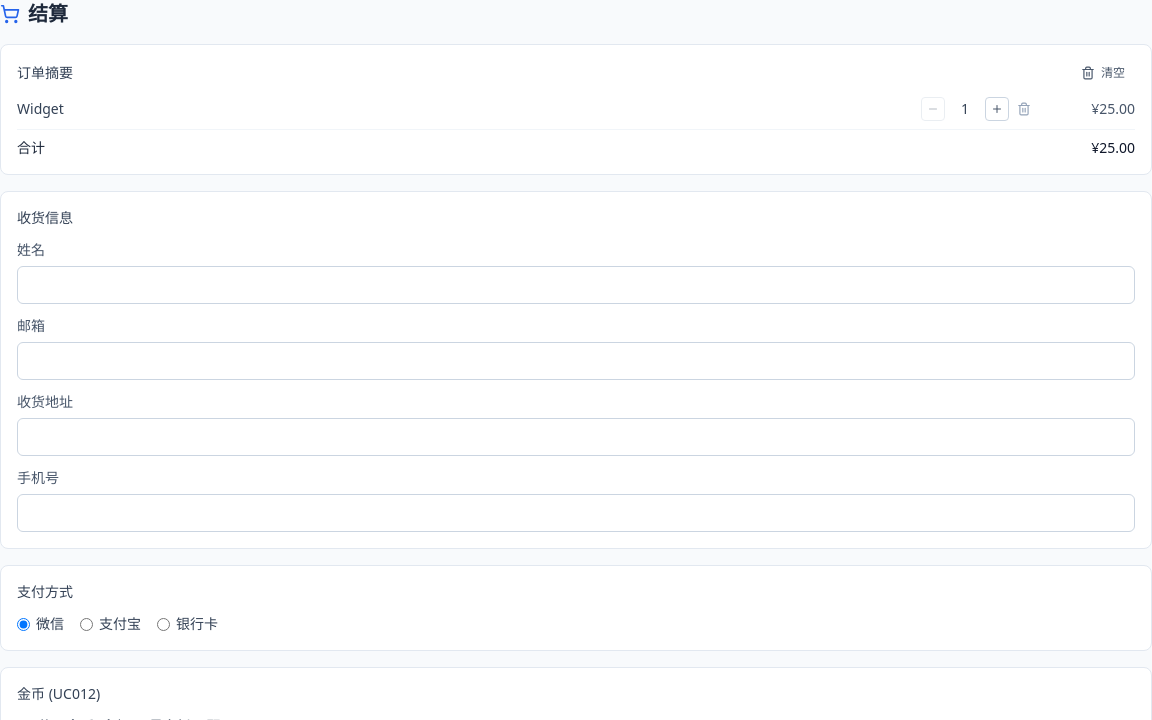
Scenario: Checkout three-stage flow › renders the Pay button with the success variant (bg-green-600)
The width and height of the screenshot is (1152, 720).
# Fill the form and submit to reach the resolved (PENDING) stage.
Type "Test User" into the field labelled "姓名" at (576, 285), box [17,266,1135,304]
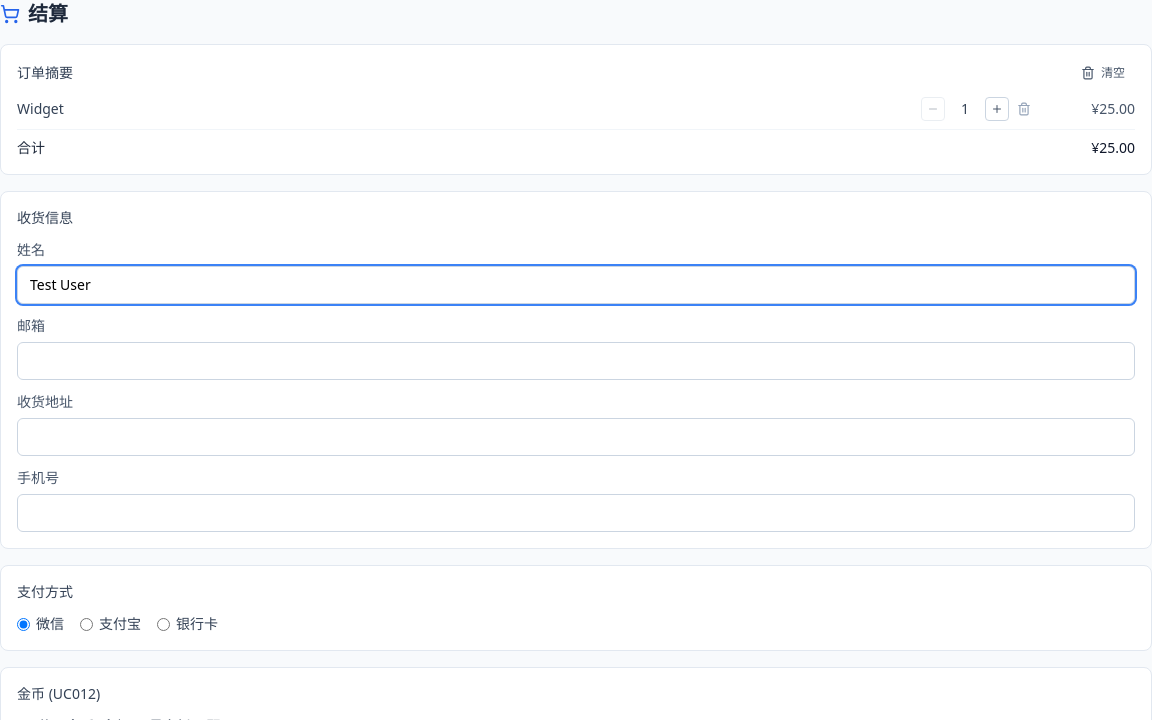
Type "test@example.com" into the field labelled "邮箱" at (576, 361), box [17,342,1135,380]
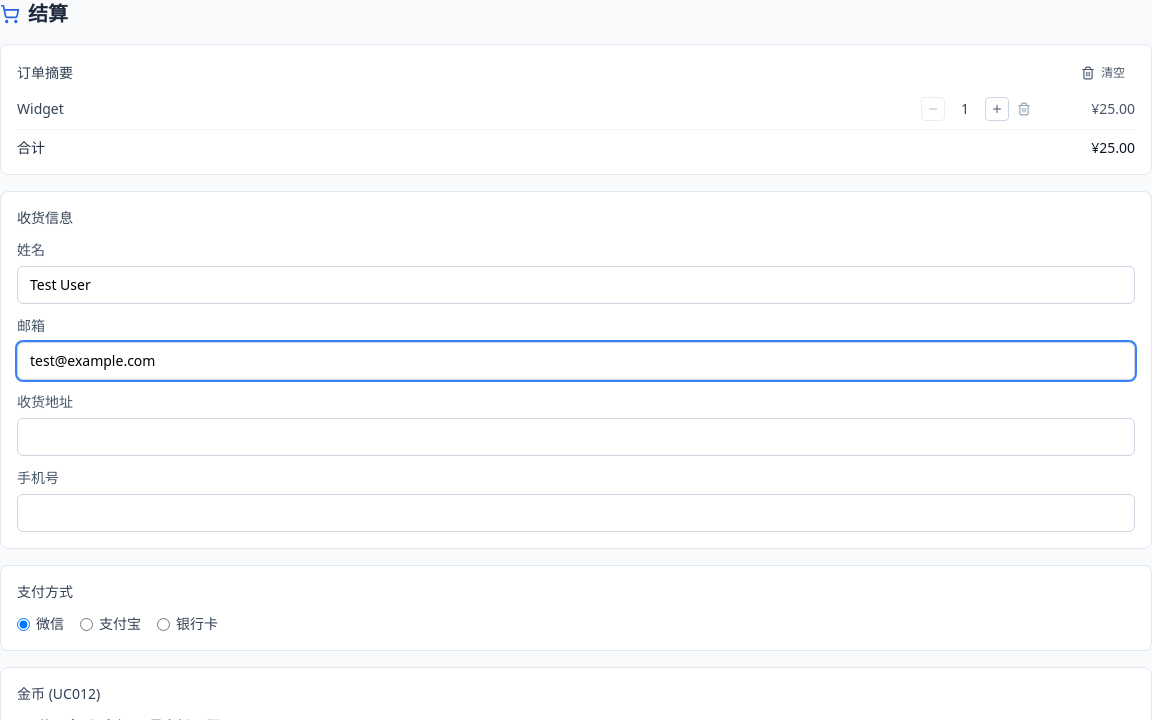
Type "123 St" into the field labelled "收货地址" at (576, 437), box [17,418,1135,456]
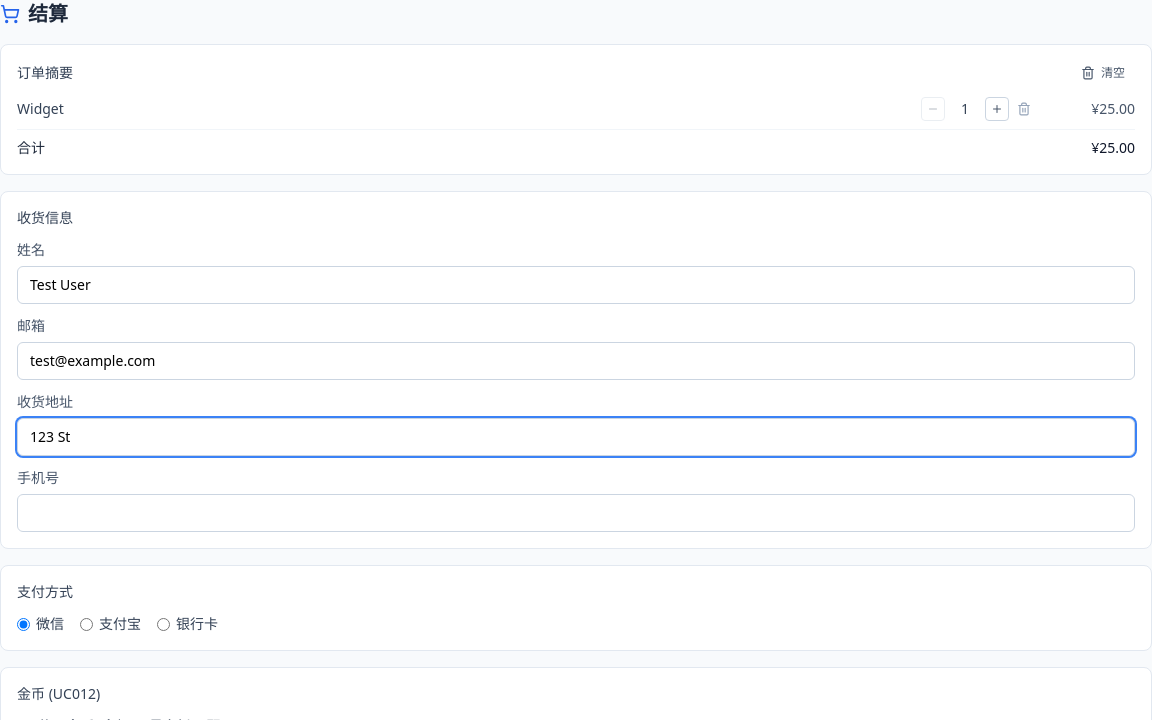
Type "13800138000" into the field labelled "手机号" at (576, 513), box [17,494,1135,532]
(page scrolled)
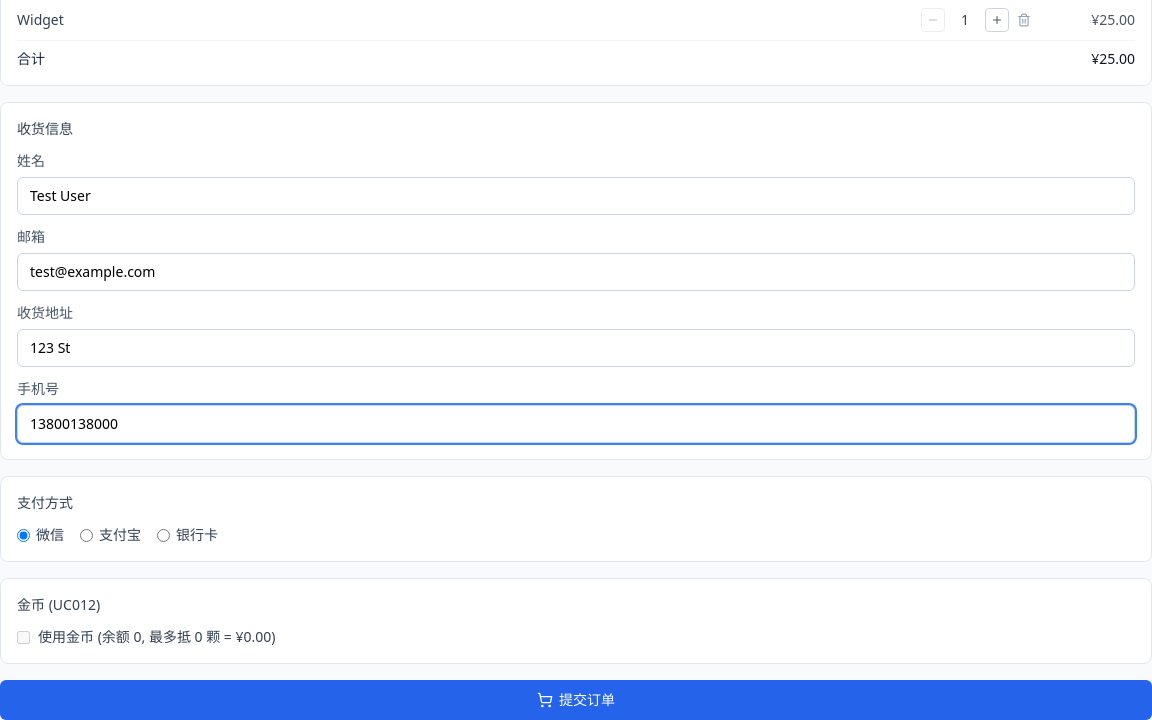
Click the button "提交订单" at (576, 700), box [0,680,1151,719]
Wait 2200 ms
(page scrolled)
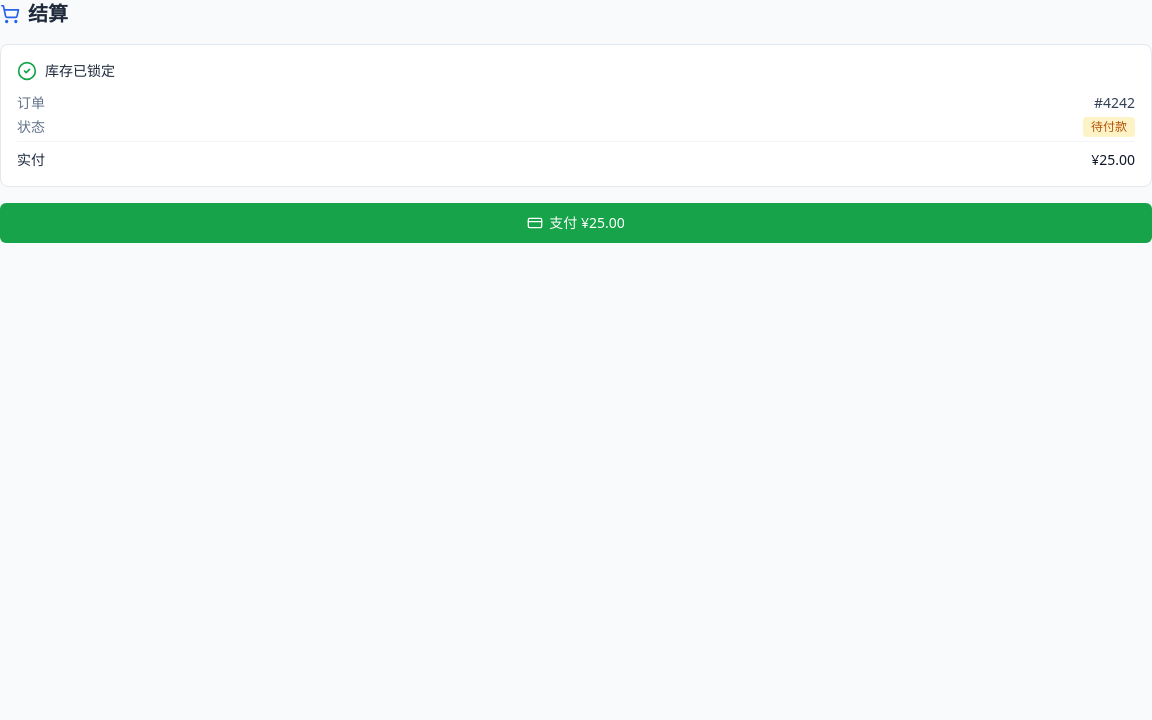
Expected: the heading "库存已锁定" is shown, [45,61,115,81]
